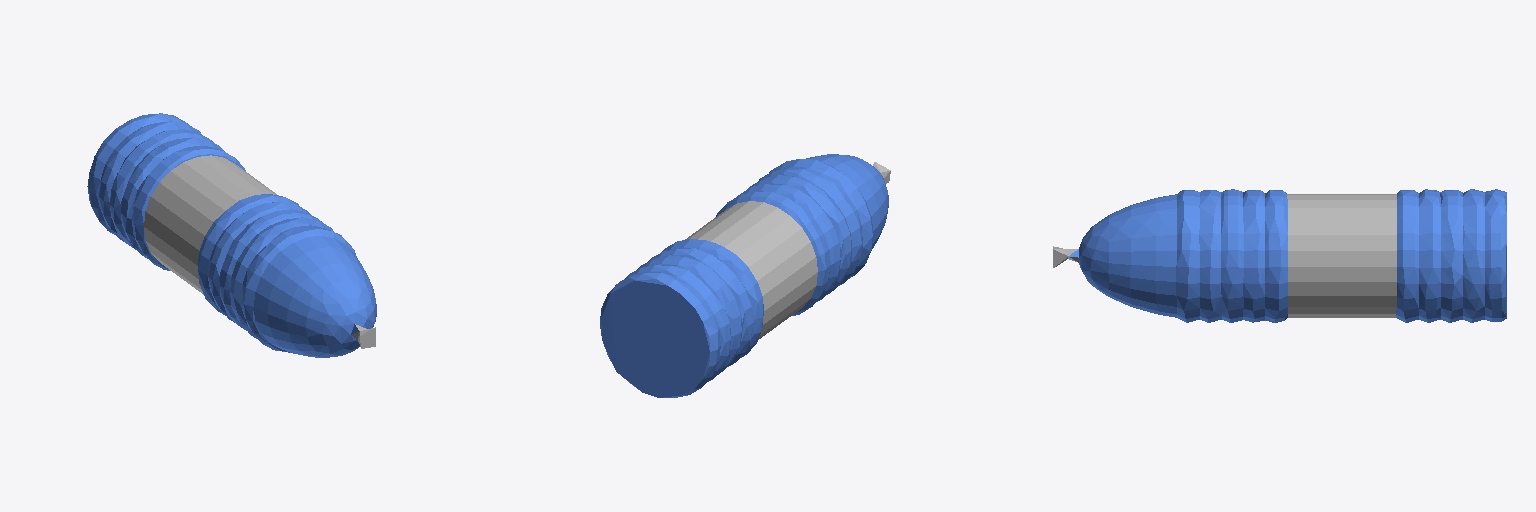
Rendered from model_align.obj.
3 views of the same model, side by side, from view 1: azimuth 30°, elevation 25°; view 2: azimuth 150°, elevation 25°; view 3: azimuth 270°, elevation 25° (orthographic).
Size of the model in its own units: 0.0845 by 0.0844 by 0.2835.